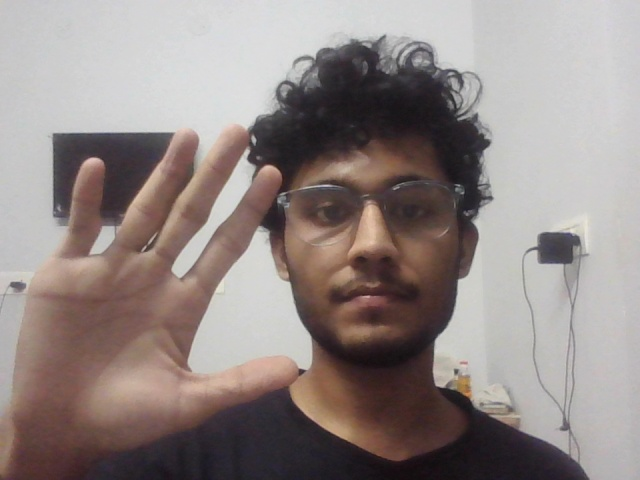Hello: (1, 110, 317, 476)
